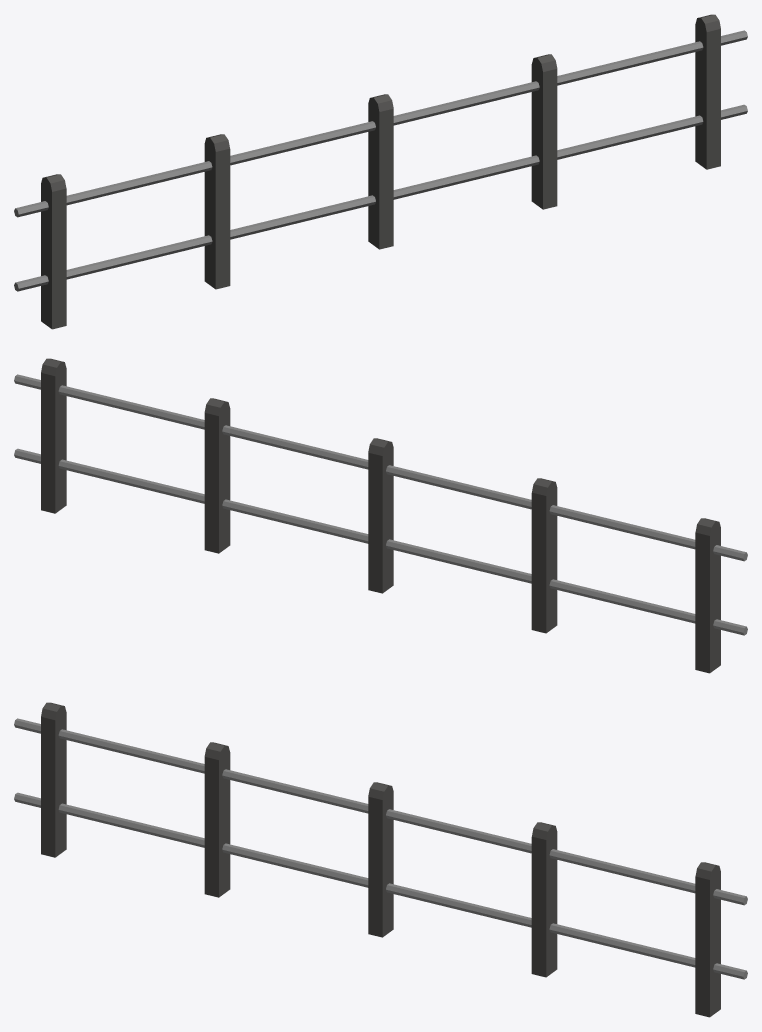
Rendered from fence4.fbx.
The picture shows the model from 3 angles, top to bottom: view 1: azimuth 30°, elevation 25°; view 2: azimuth 150°, elevation 25°; view 3: azimuth 330°, elevation 25°; orthographic projection.
Visible parts, largest first — view 1: mesh; view 2: mesh; view 3: mesh.
Part boxes in pixels (box(x1,y1,x2,y2)): mesh: box(14, 14, 747, 329); mesh: box(14, 358, 747, 673); mesh: box(14, 702, 747, 1017).
Bounding box in the file's own units: 515 × 99.6 × 13.72.
